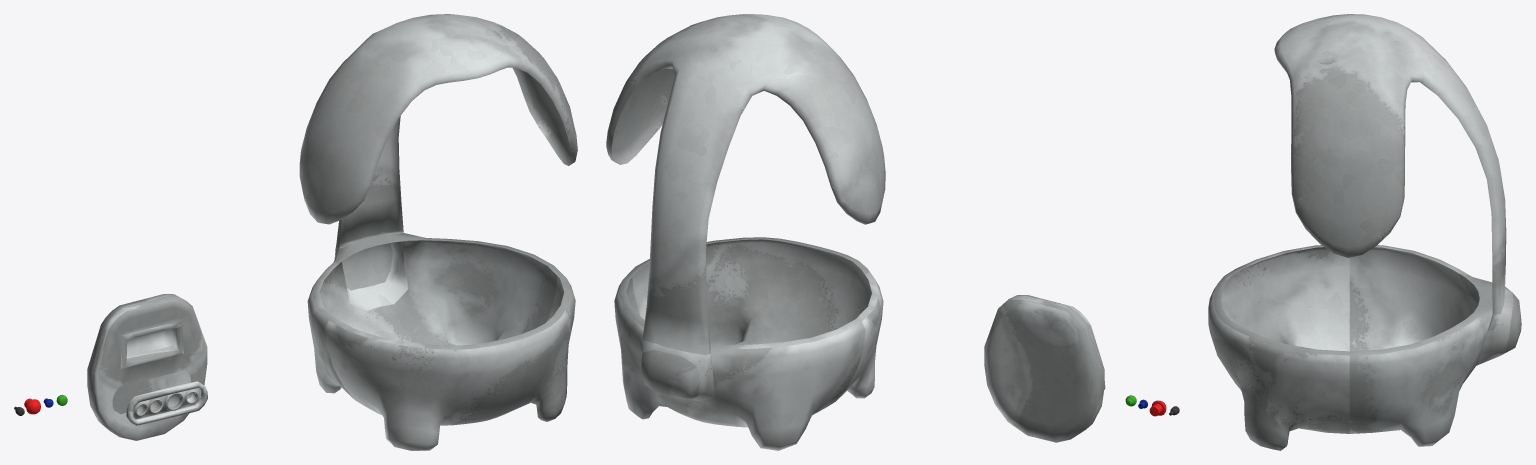
File: geo_CapsulaYBotones_Fixed.fbx
3 views of the same model, side by side, from view 1: azimuth 30°, elevation 25°; view 2: azimuth 150°, elevation 25°; view 3: azimuth 270°, elevation 25° (orthographic).
Parts seen in each view (by area): view 1: geo_CapsuleBaseStructure, geo_ControlsBase, geo_ControlsBase01; view 2: geo_CapsuleBaseStructure, geo_ControlsBase; view 3: geo_CapsuleBaseStructure.
Part boxes in pixels (x1,y1,x2,y2): geo_CapsuleBaseStructure: [299, 14, 577, 450]; geo_ControlsBase: [87, 294, 207, 440]; geo_ControlsBase01: [126, 381, 207, 425]; geo_CapsuleBaseStructure: [606, 14, 885, 450]; geo_ControlsBase: [984, 295, 1104, 442]; geo_CapsuleBaseStructure: [1208, 14, 1521, 450].
Bounding box in the file's own units: 979 × 641 × 470.
2 materials, 2 textured.
